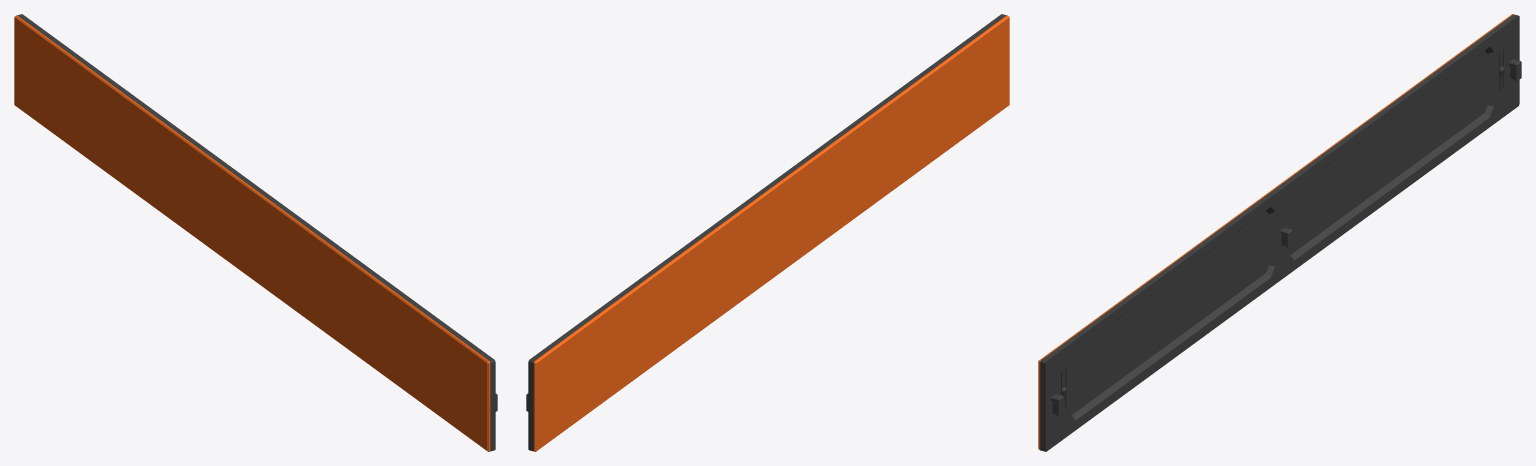
Rendered from SideCover_270-05H.lib.glb.
3 renders of one model, left to right at view 1: azimuth 30°, elevation 25°; view 2: azimuth 150°, elevation 25°; view 3: azimuth 330°, elevation 25°, orthographic.
Visible parts, largest first — view 1: SideCover_270-05H; view 2: SideCover_270-05H; view 3: SideCover_270-05H.
Part boxes in pixels (x1=…): SideCover_270-05H: x1=14, y1=14, x2=497, y2=451; SideCover_270-05H: x1=526, y1=14, x2=1009, y2=451; SideCover_270-05H: x1=1038, y1=14, x2=1521, y2=451.
Size of the model in its own units: 5.05 by 27.6 by 262.
